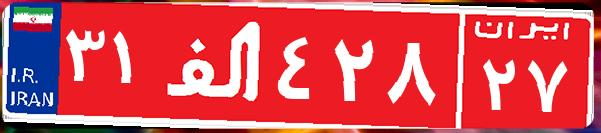1: (110, 28, 158, 105)
2: (330, 28, 385, 110), (475, 38, 525, 113)
3: (57, 26, 110, 107)
4: (273, 28, 330, 110)
7: (525, 38, 570, 115)
8: (385, 28, 445, 110)
الف: (158, 15, 273, 115)
